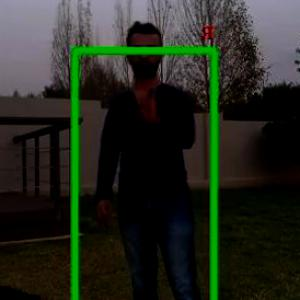takeoff-hand: (133, 78, 163, 127)
